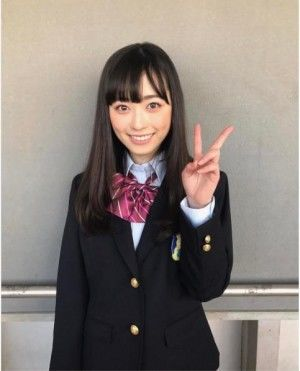face: (107, 69, 171, 155)
hand: (180, 123, 235, 207)
